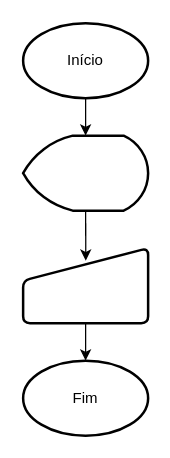
This 170x458 diagram has some shape labels left out. The shapes that lost their labels are listed below. From the top down, each one's centre as x and y in pixels, then its label:
the point at 85,172: "Entre com seu nome"
the point at 85,285: nome
